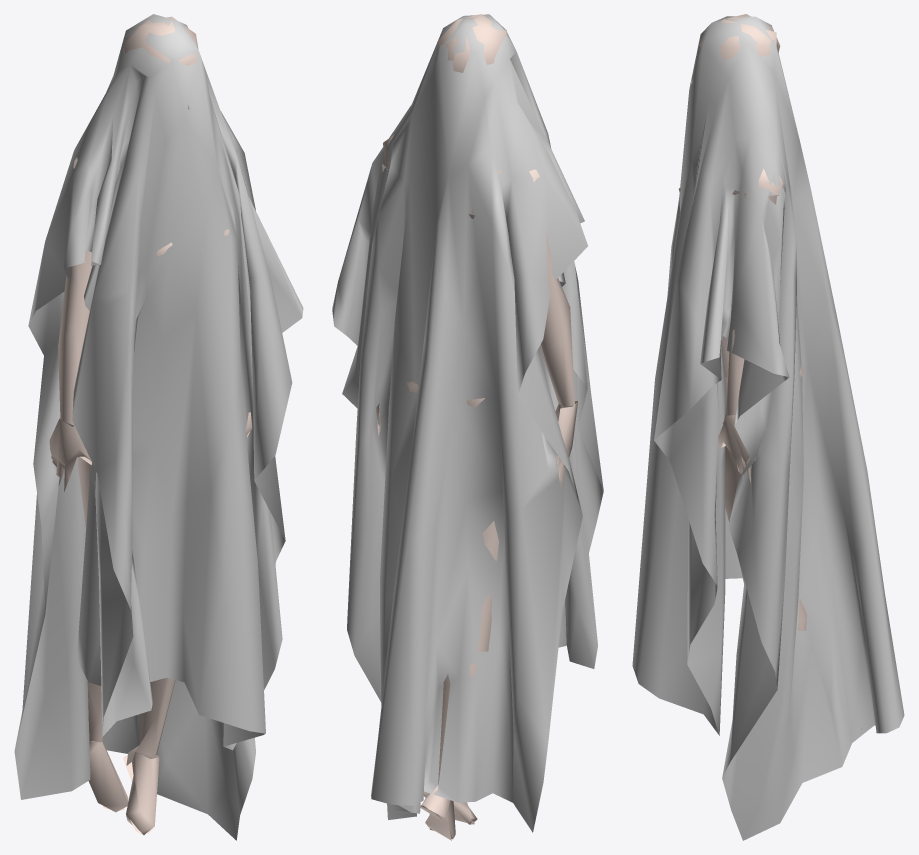
File: ghost_2.fbx
The picture shows the model from 3 angles, left to right: view 1: azimuth 30°, elevation 25°; view 2: azimuth 150°, elevation 25°; view 3: azimuth 270°, elevation 25°; orthographic projection. The views are drawn at different scales.
Parts seen in each view (by area): view 1: ee_obj_1; view 2: ee_obj_1; view 3: ee_obj_1.
Part boxes in pixels (x1,y1,x2,y2): ee_obj_1: [14, 14, 303, 840]; ee_obj_1: [332, 14, 603, 840]; ee_obj_1: [632, 14, 904, 840].
Bounding box in the file's own units: 12.46 × 40.85 × 12.76.
